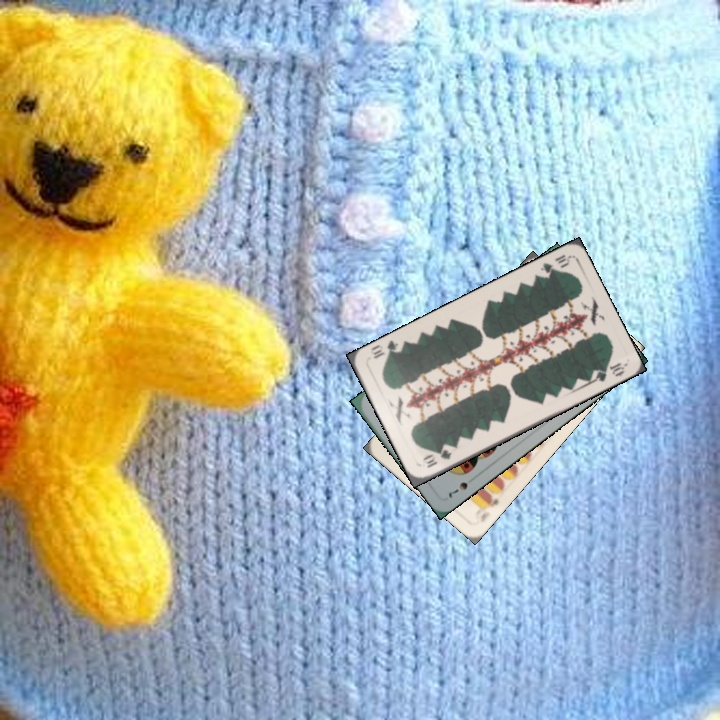E10: (480, 491, 502, 514)
G10: (535, 250, 573, 281), (418, 445, 454, 471)
S7: (443, 478, 470, 501)
